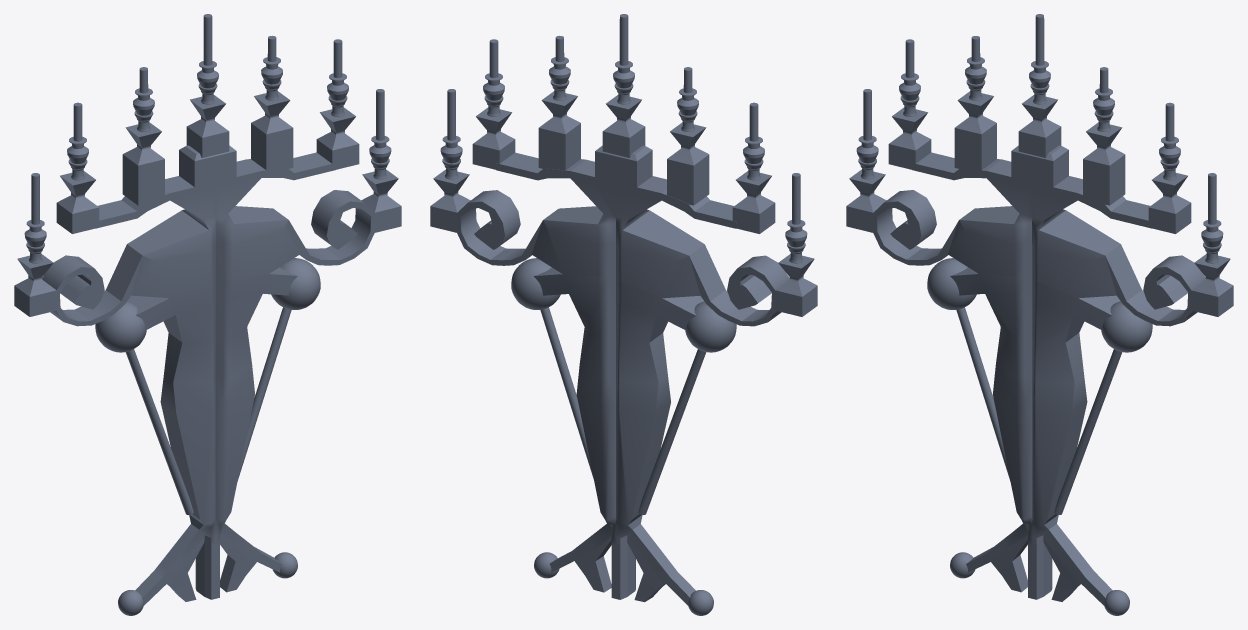
The model's file is Candle.fbx.
3 renders of one model, left to right at view 1: azimuth 30°, elevation 25°; view 2: azimuth 150°, elevation 25°; view 3: azimuth 330°, elevation 25°, orthographic.
Parts seen in each view (by area): view 1: Candle; view 2: Candle; view 3: Candle.
Part boxes in pixels (x1,y1,x2,y2): Candle: [14, 14, 401, 615]; Candle: [430, 14, 817, 615]; Candle: [846, 14, 1233, 615].
Size of the model in its own units: 1076 by 1604 by 137.
